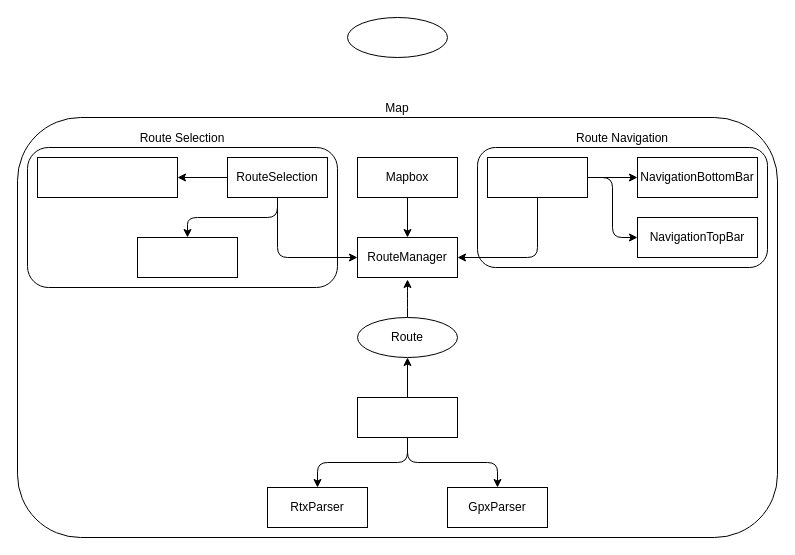
Image size: 795x555. Some labels were removed from this diagram. Here are the shapes that lost their labels. From the top down, the box of each, then its label:
(346, 16, 448, 58): Attribute
(36, 156, 178, 198): RouteSelectionBottomBar
(486, 156, 588, 198): RouteNavigation
(136, 236, 238, 278): SearchBar
(356, 396, 458, 438): RouteParser
